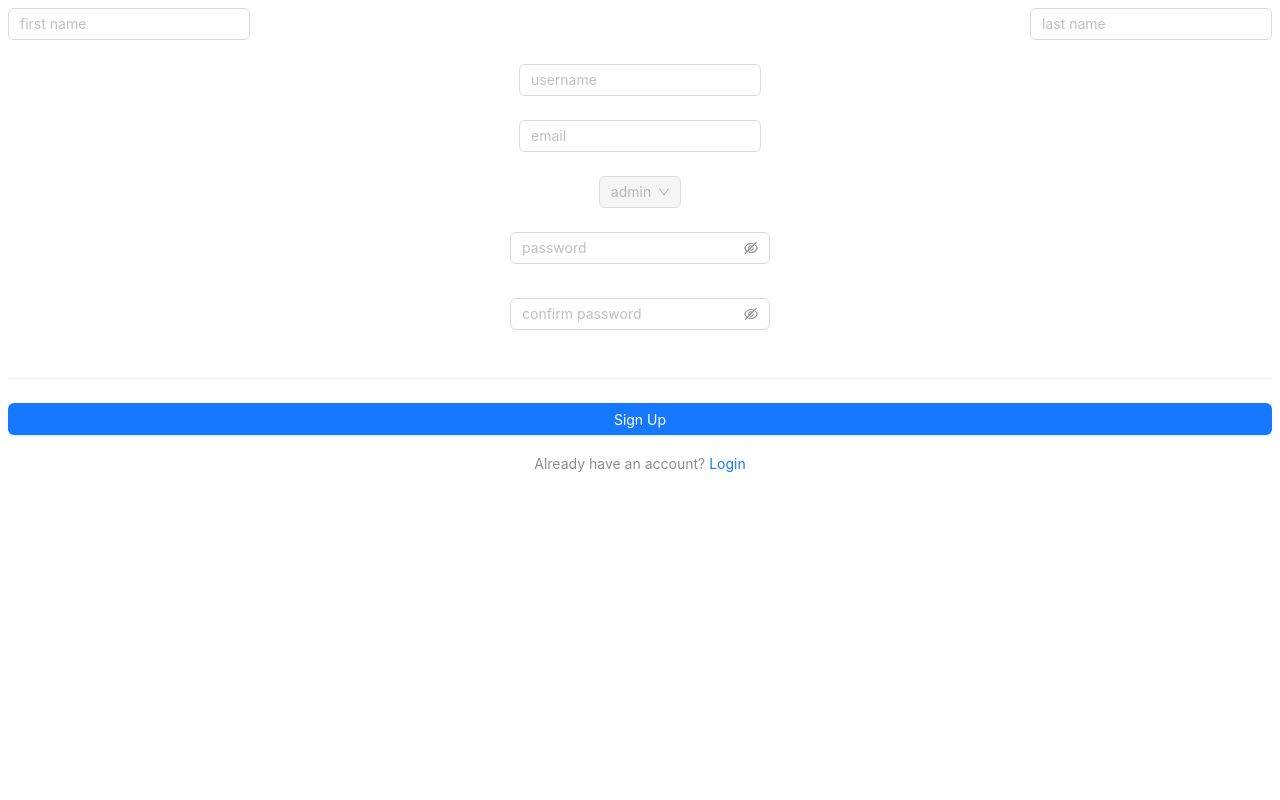
RegistrationForm › shows error if passwords do not match
The image size is (1280, 800).
Type "Password1!" into the password field with placeholder "password" at (631, 248), box [522, 237, 740, 259]
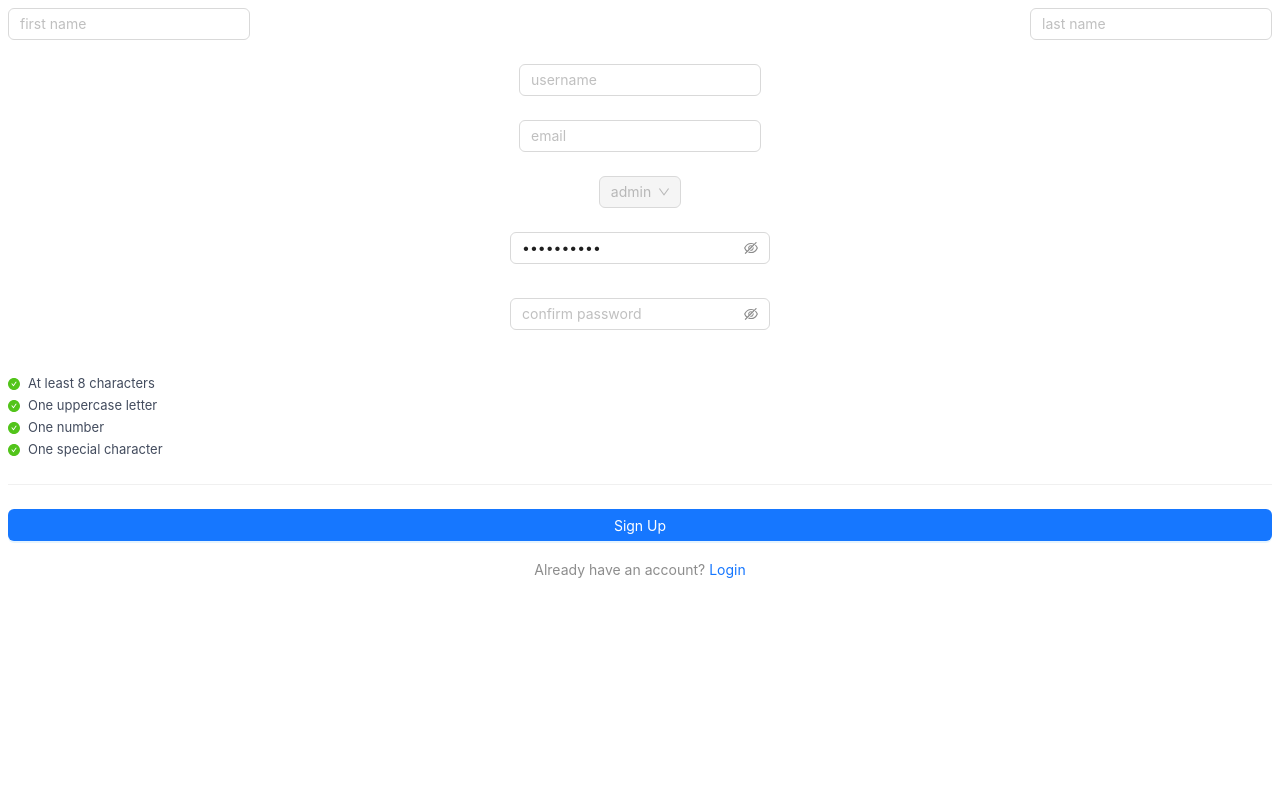
Type "Password2!" into the password field with placeholder "confirm password" at (631, 314), box [522, 303, 740, 325]
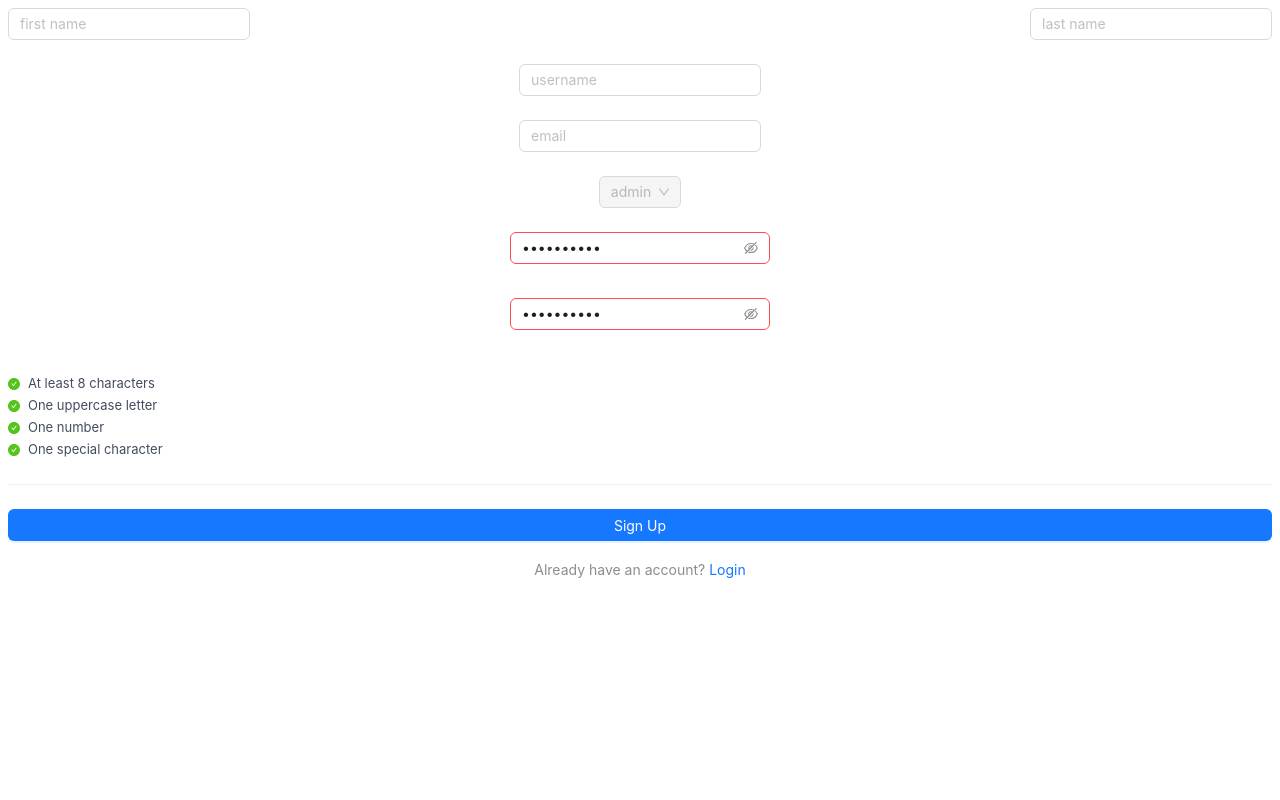
Click the button "Sign Up" at (640, 525), box [8, 509, 1272, 541]
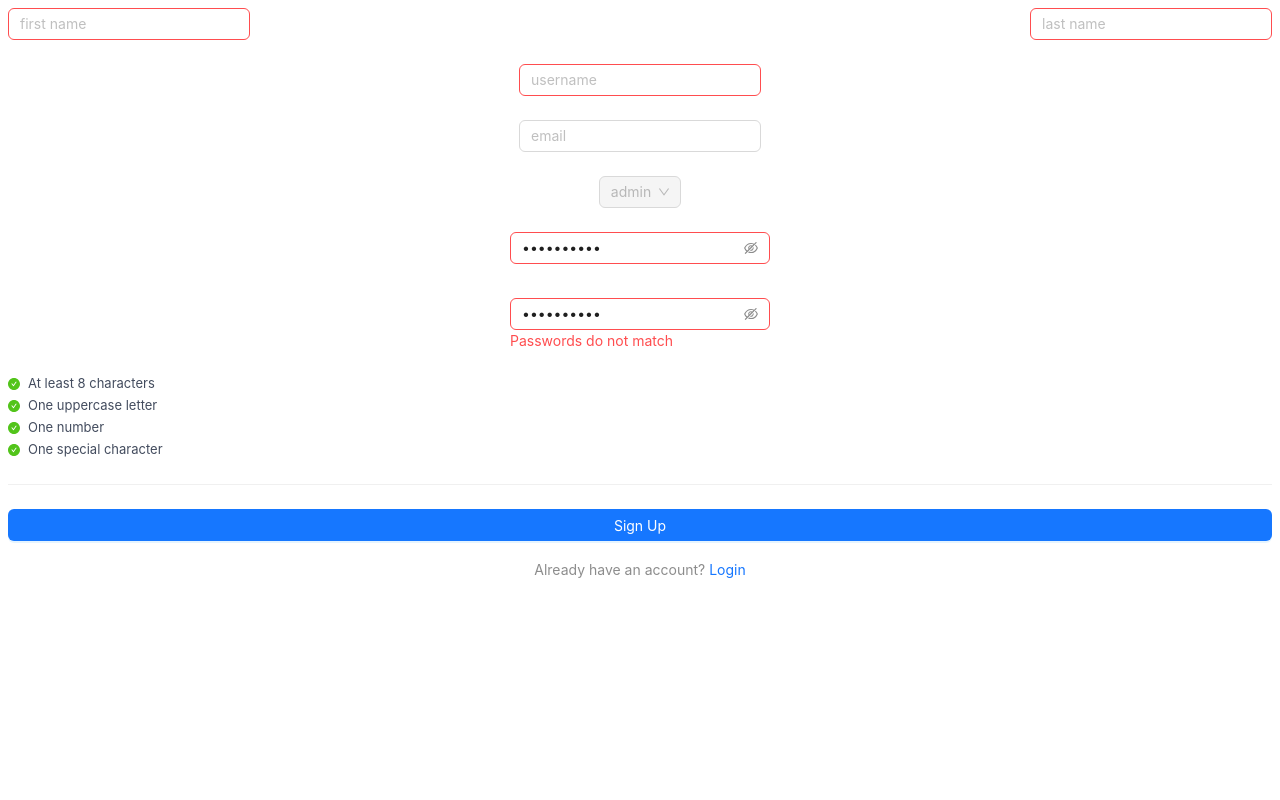
Expected: the text "Passwords do not match" is shown, [510, 332, 673, 349]
